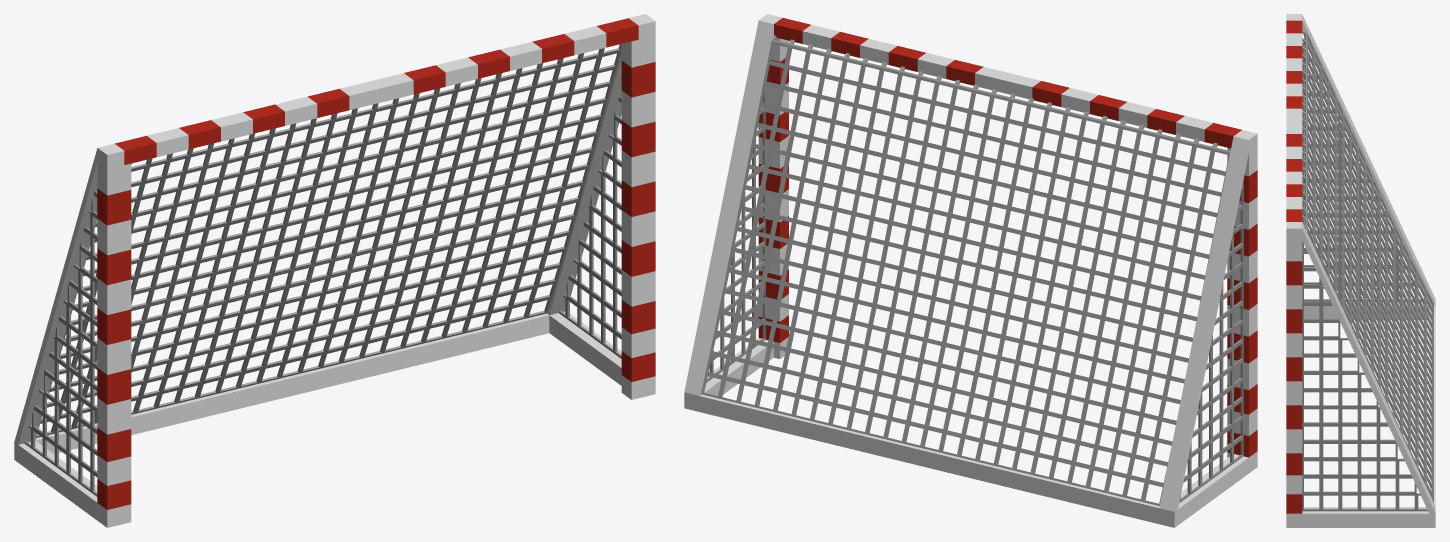
File: Handball Goals.fbx
3 views of the same model, side by side, from view 1: azimuth 30°, elevation 25°; view 2: azimuth 150°, elevation 25°; view 3: azimuth 270°, elevation 25° (orthographic). The views are drawn at different scales.
Parts seen in each view (by area): view 1: Netting, Handball Goals; view 2: Netting, Handball Goals; view 3: Netting, Handball Goals.
Part boxes in pixels (box(x1,y1,x2,y2)): Netting: box(24, 44, 621, 496); Handball Goals: box(14, 14, 655, 527); Netting: box(701, 35, 1243, 505); Handball Goals: box(684, 14, 1257, 527); Netting: box(1302, 31, 1433, 511); Handball Goals: box(1286, 14, 1435, 527).
Size of the model in its own units: 1600 by 1040 by 470.
